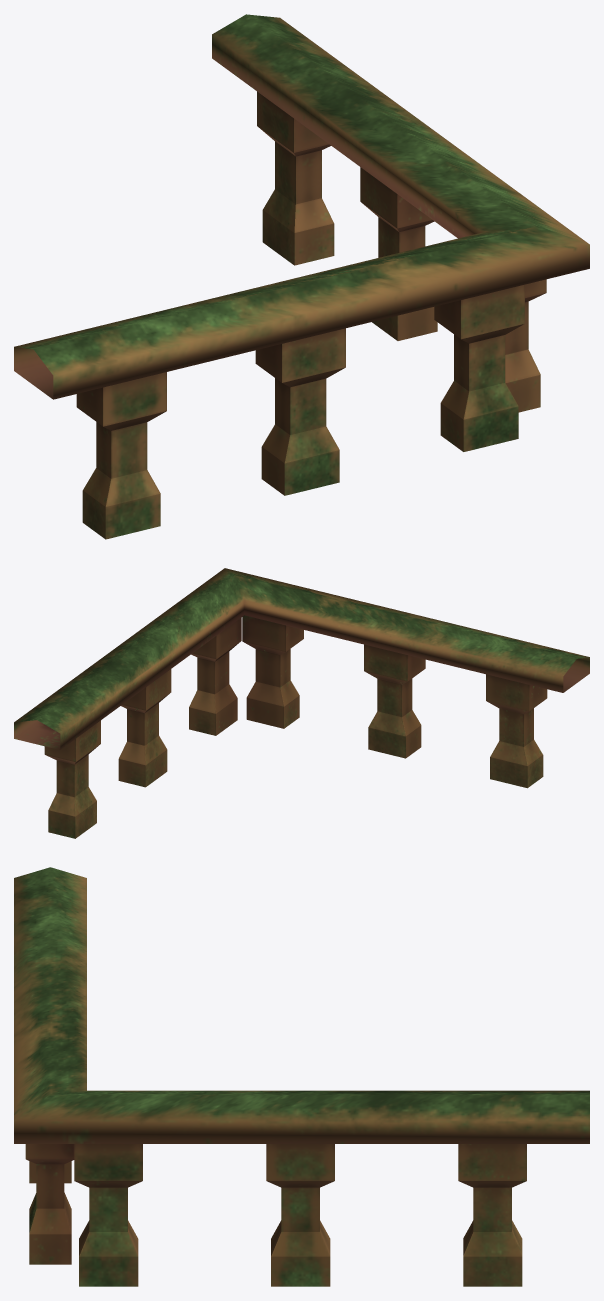
File: VallaEsquina.fbx
The picture shows the model from 3 angles, top to bottom: view 1: azimuth 30°, elevation 25°; view 2: azimuth 150°, elevation 25°; view 3: azimuth 270°, elevation 25°; orthographic projection. The views are drawn at different scales.
Parts seen in each view (by area): view 1: Cube.116; view 2: Cube.116; view 3: Cube.116.
Boxes of the visible parts, left/top/right/bottom form: Cube.116: left=14, top=14, right=589, bottom=539; Cube.116: left=14, top=568, right=589, bottom=838; Cube.116: left=14, top=867, right=589, bottom=1286.
Bounding box in the file's own units: 4 × 1.4 × 4.
